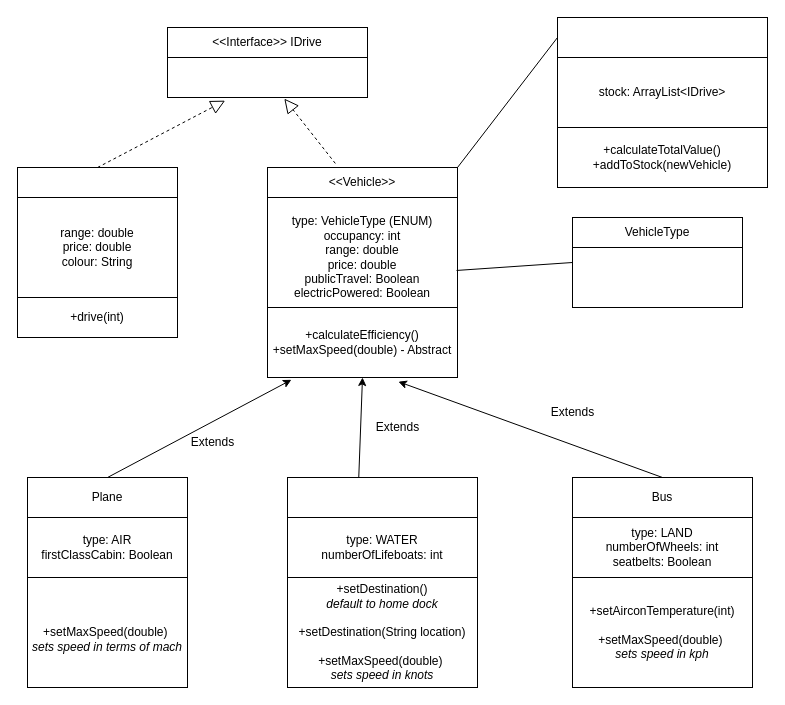
This 785x705 diagram has some shape labels left out. The shapes that lost their labels are listed below. From the top down, each one's centre as x and y in pixels, then its label:
[662,37]: Garage
[267,77]: +setPrice(double)
[97,182]: RemoteControlCar
[657,277]: AIR LAND WATER
[382,497]: CruiseLiner
